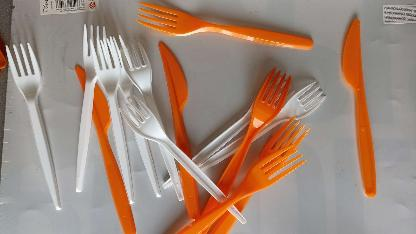Others: (161, 64, 297, 234), (114, 90, 250, 224), (191, 114, 315, 234), (190, 78, 330, 180), (156, 141, 309, 234), (69, 58, 138, 234), (3, 41, 62, 213), (152, 38, 204, 226), (135, 1, 319, 53), (90, 37, 140, 207), (338, 17, 380, 200), (73, 18, 109, 196)
